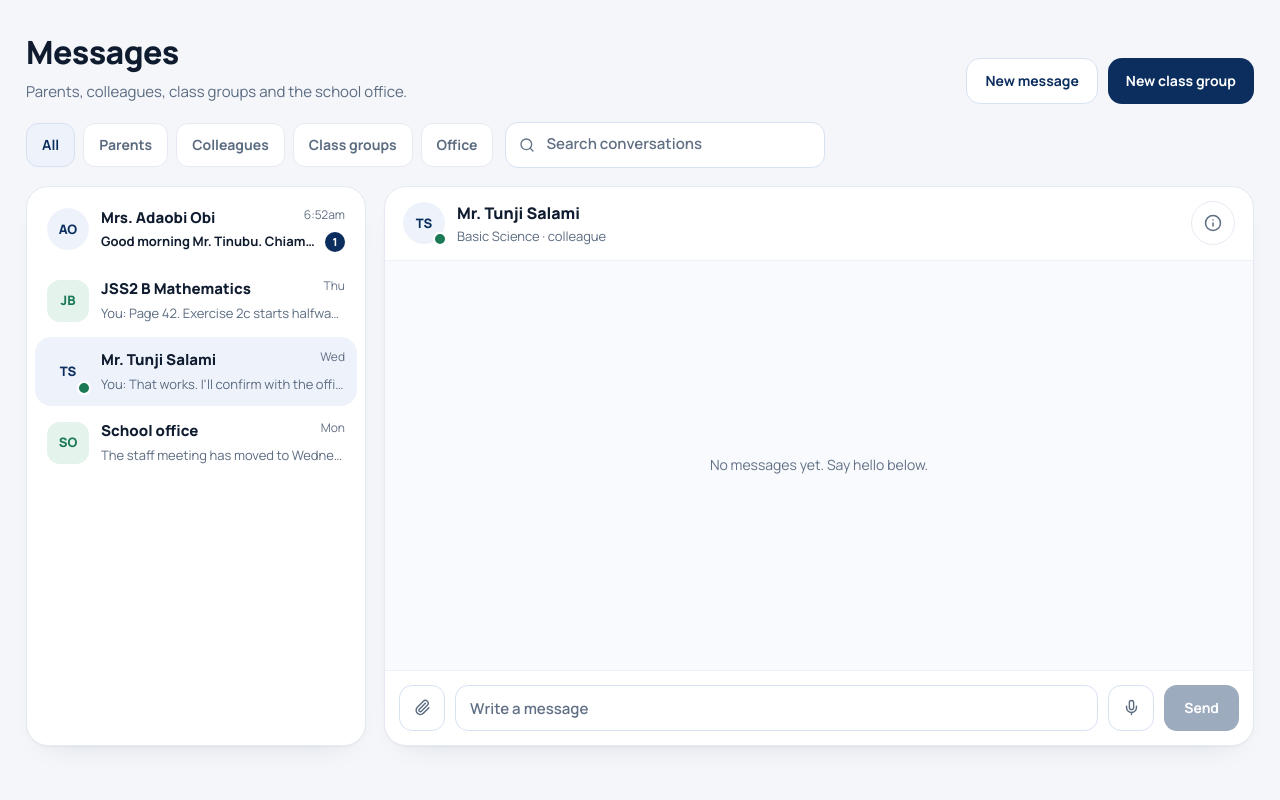
the info modal › says when nothing was shared
Click the button named "Conversation info". click: [1213, 223]
box: [1191,201,1235,245]
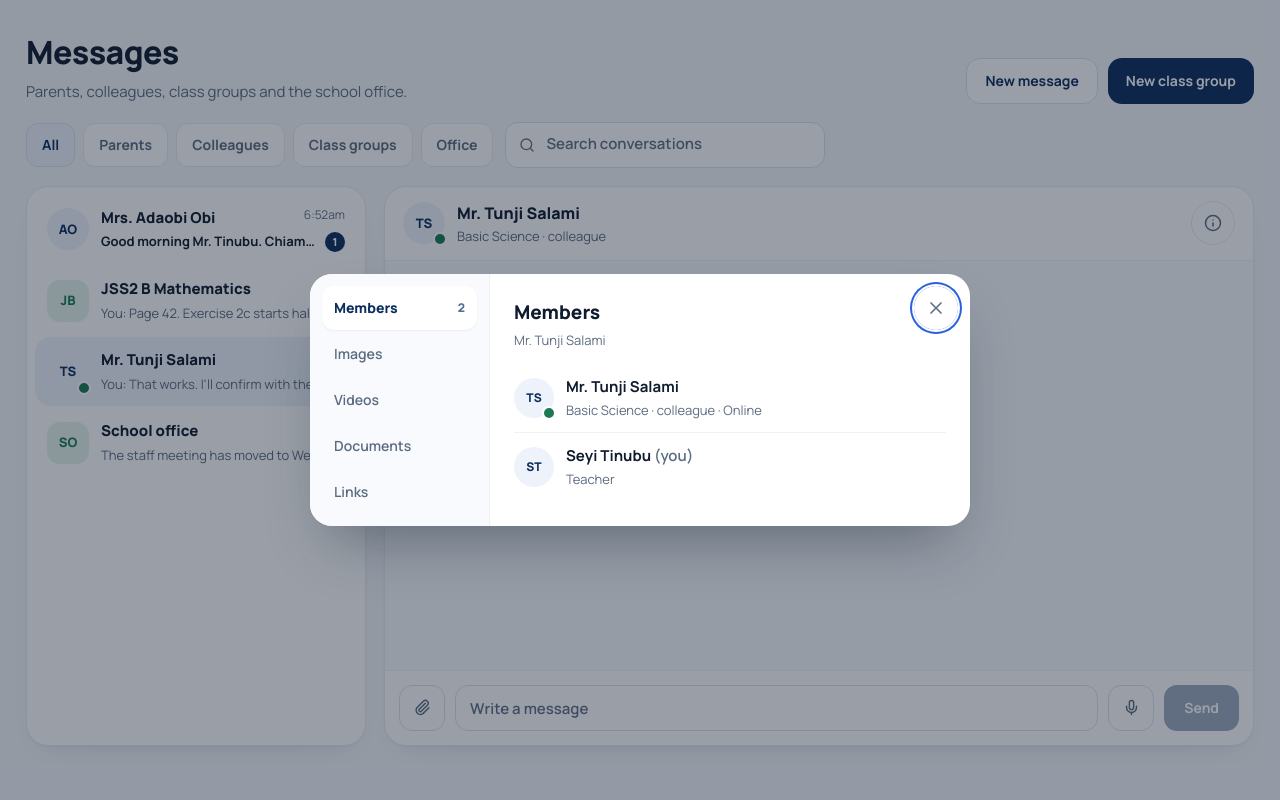
Click the tab "Images". click: [400, 354]
box: [322,332,477,376]
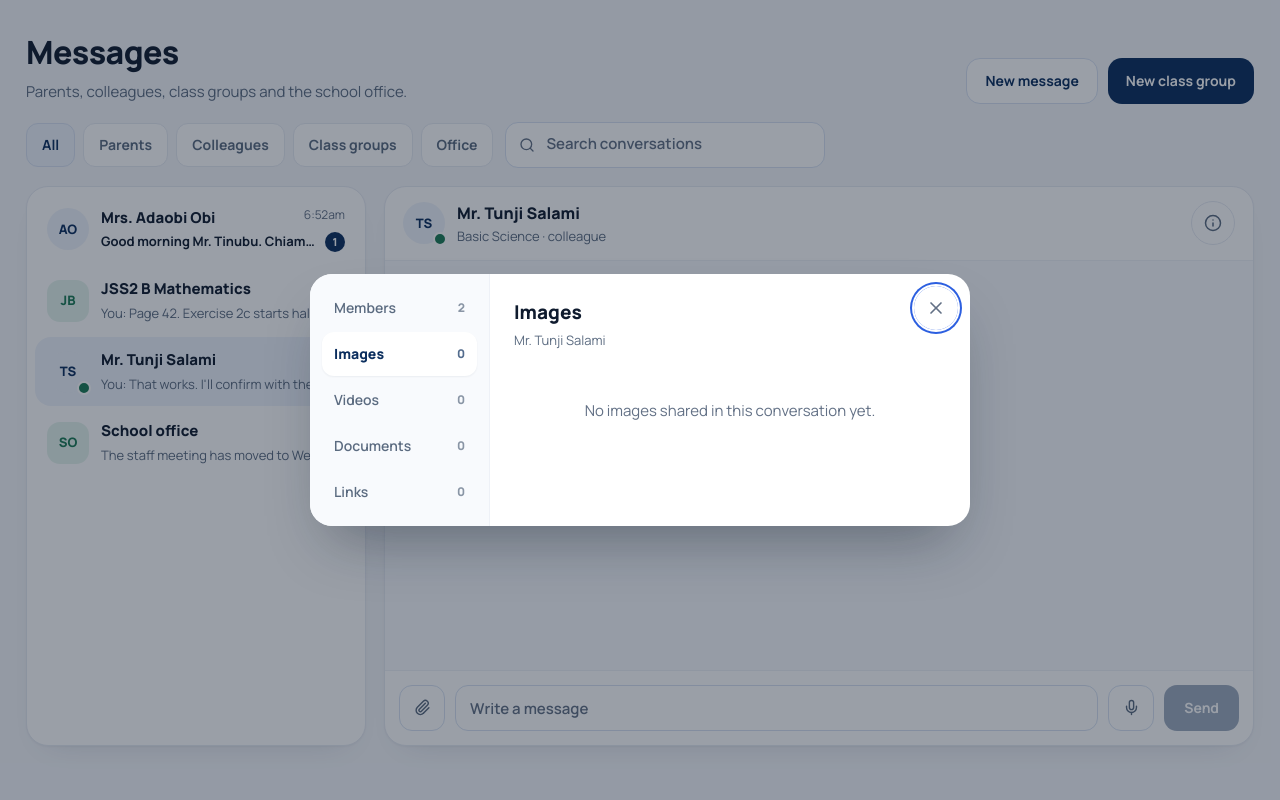
Now the text "No images shared in this conversation yet." is shown, box [585,400,875,421]
